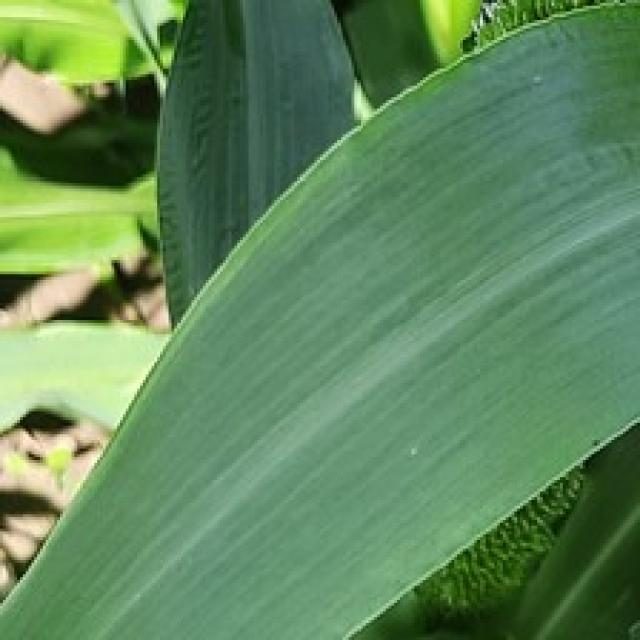Corn: (0, 0, 637, 637), (152, 0, 357, 329)
